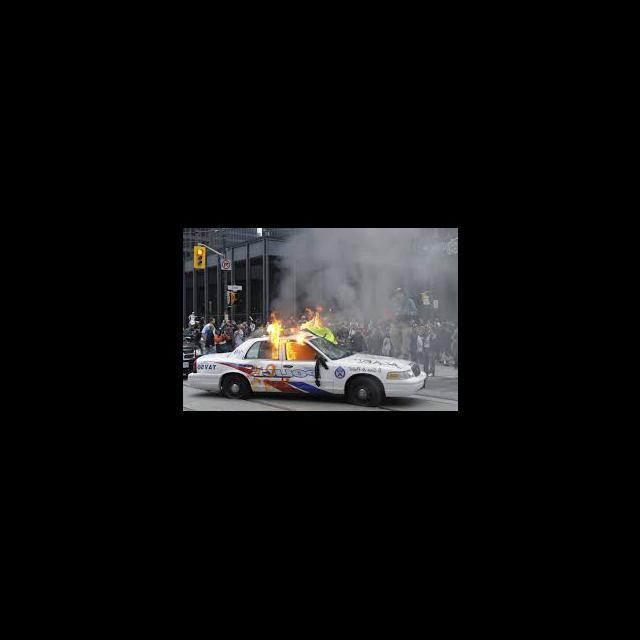Fire: (266, 304, 325, 362)
Smoke: (277, 230, 456, 304), (328, 305, 456, 348)
